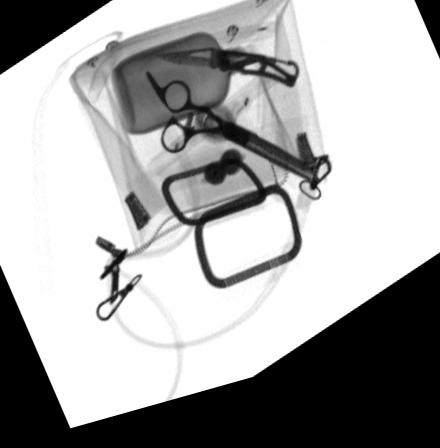Knife: (155, 57, 299, 105)
Scissors: (142, 76, 315, 197)
